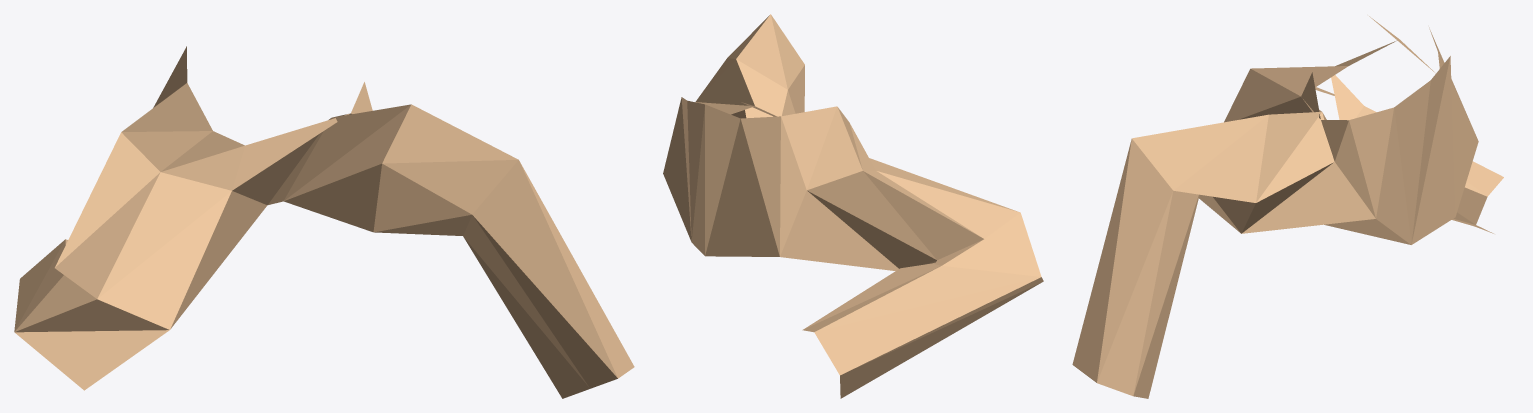
3 renders of one model, left to right at view 1: azimuth 30°, elevation 25°; view 2: azimuth 150°, elevation 25°; view 3: azimuth 270°, elevation 25°, orthographic. The views are drawn at different scales.
Bounding box in the file's own units: 1.24 × 0.6836 × 1.02.
